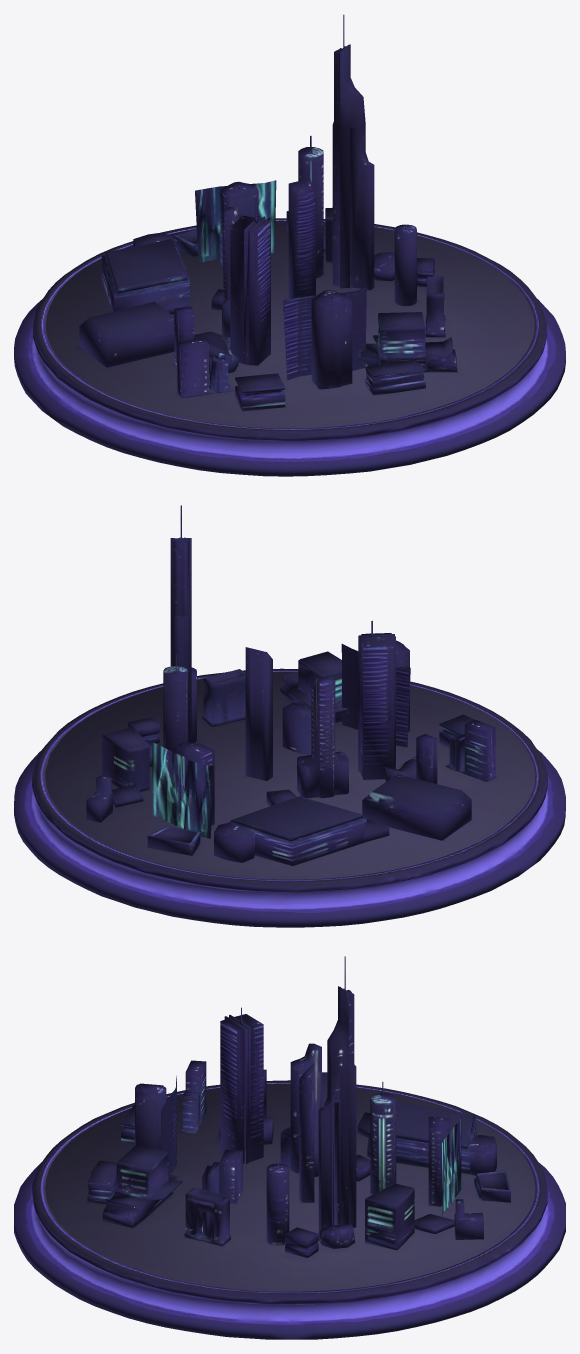
File: after-hour-neon-city.glb
The picture shows the model from 3 angles, top to bottom: view 1: azimuth 30°, elevation 25°; view 2: azimuth 150°, elevation 25°; view 3: azimuth 270°, elevation 25°; orthographic projection.
Parts seen in each view (by area): view 1: tripo_node_75ac9120-b9ac-4fc3-be2f-61490bb463ab; view 2: tripo_node_75ac9120-b9ac-4fc3-be2f-61490bb463ab; view 3: tripo_node_75ac9120-b9ac-4fc3-be2f-61490bb463ab.
Boxes of the visible parts, x1,y1,x2,y2 form: tripo_node_75ac9120-b9ac-4fc3-be2f-61490bb463ab: [14, 14, 565, 476]; tripo_node_75ac9120-b9ac-4fc3-be2f-61490bb463ab: [14, 505, 565, 927]; tripo_node_75ac9120-b9ac-4fc3-be2f-61490bb463ab: [14, 956, 565, 1339].
Bounding box in the file's own units: 0.998 × 0.6113 × 0.998.
Materials: 1 (1 with a texture image).
